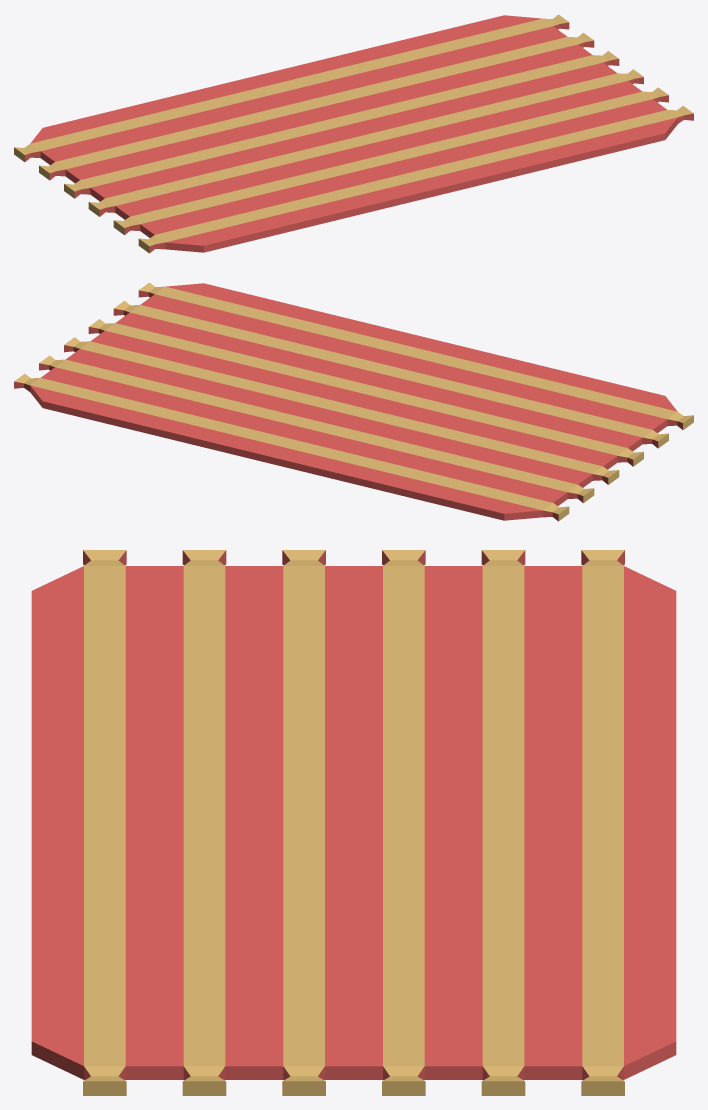
File: CarpetB.fbx
The picture shows the model from 3 angles, top to bottom: view 1: azimuth 30°, elevation 25°; view 2: azimuth 150°, elevation 25°; view 3: azimuth 270°, elevation 25°; orthographic projection. The views are drawn at different scales.
Parts seen in each view (by area): view 1: Plane; view 2: Plane; view 3: Plane.
Part boxes in pixels (x1,y1,x2,y2): Plane: [14, 14, 693, 253]; Plane: [14, 282, 693, 521]; Plane: [31, 550, 676, 1095].
Size of the model in its own units: 845 by 10.73 by 433.
